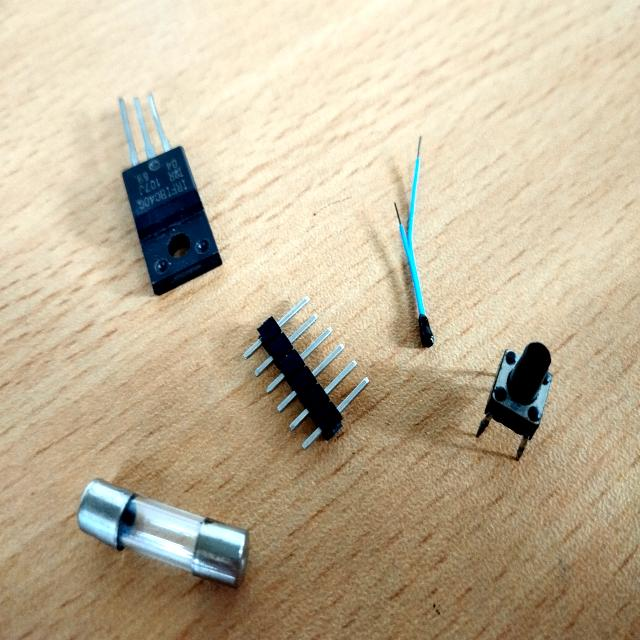Fuse: (70, 470, 258, 598)
IGBT: (114, 90, 225, 302)
NTC-Thermistor: (386, 131, 445, 354)
Pin-Header: (242, 292, 372, 454)
Tact-Switch: (474, 334, 558, 467)
